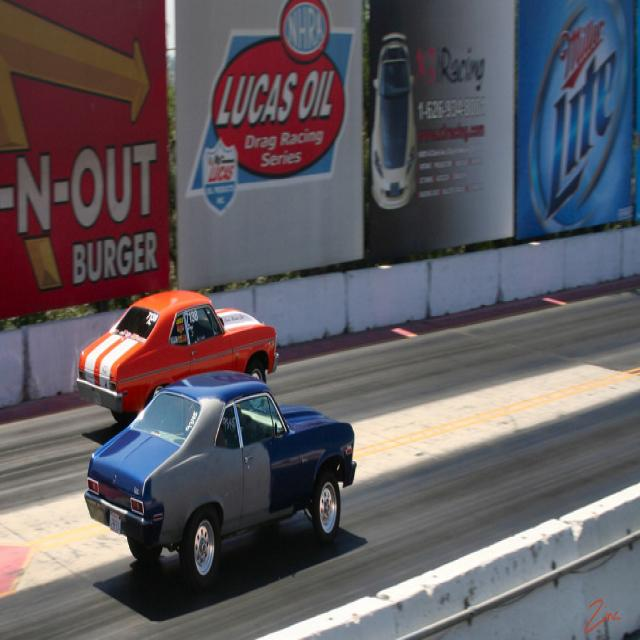car: (83, 368, 356, 589)
